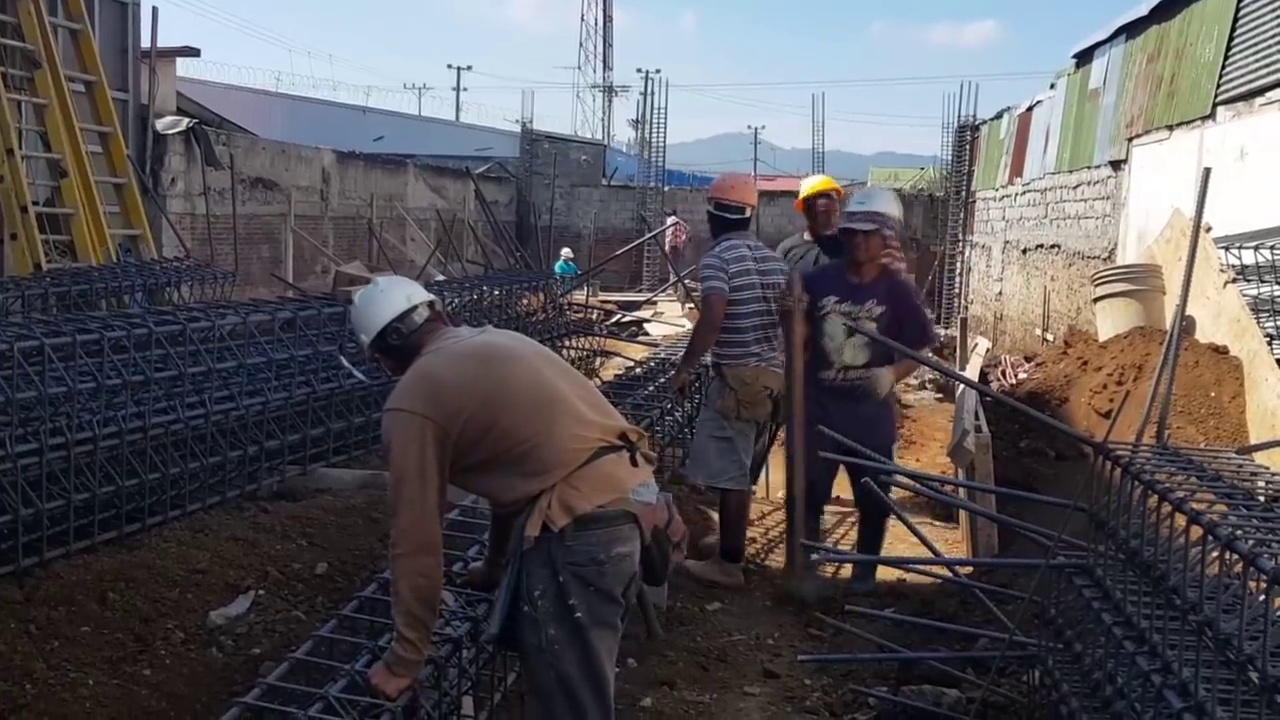helmet: (344, 277, 435, 365), (838, 187, 911, 235), (703, 170, 761, 222), (794, 173, 841, 212), (559, 247, 574, 258)
helmet-off: (661, 205, 676, 219)
helmet-on: (342, 273, 464, 384), (839, 187, 911, 285), (705, 170, 759, 247), (794, 173, 842, 245), (558, 247, 574, 265)
person: (339, 278, 674, 718), (791, 186, 939, 579), (671, 171, 791, 595), (773, 173, 842, 275), (661, 206, 689, 291), (553, 246, 579, 277)
